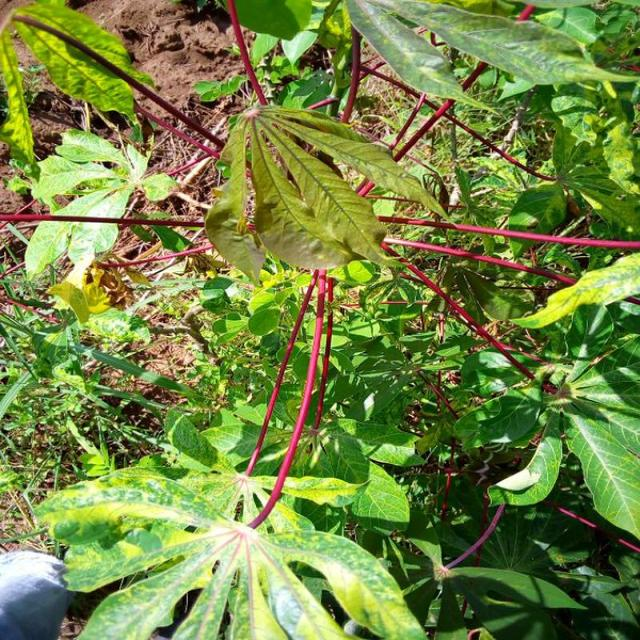cassava leaf: (36, 462, 426, 638)
